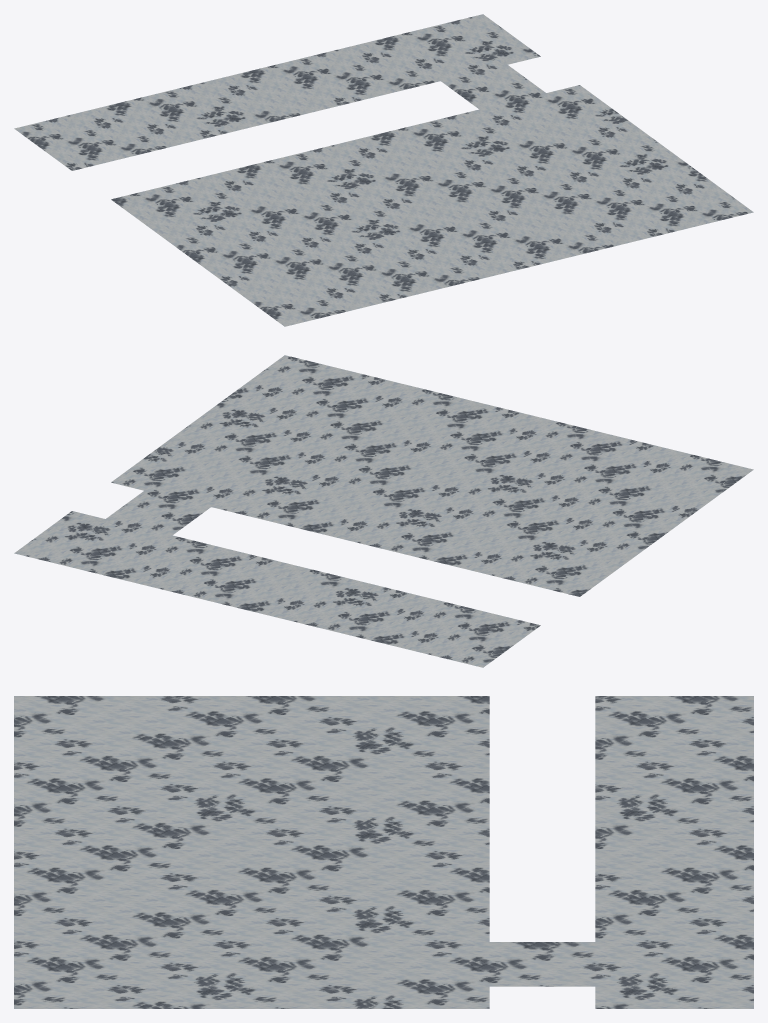
File: oTerrainGroundMap03C.FBX
3 views of the same model, one above another, from view 1: azimuth 30°, elevation 25°; view 2: azimuth 150°, elevation 25°; view 3: azimuth 270°, elevation 25° (orthographic). The views are drawn at different scales.
Visible parts, largest first — view 1: oTerrainGroundMap03C; view 2: oTerrainGroundMap03C; view 3: oTerrainGroundMap03C.
Boxes of the visible parts, box(x1,y1,x2,y2) form: oTerrainGroundMap03C: box(14, 14, 753, 326); oTerrainGroundMap03C: box(14, 355, 753, 667); oTerrainGroundMap03C: box(14, 696, 753, 1008).
Bounding box in the file's own units: 658 × 1.86e-13 × 658.
1 material, 1 textured.
